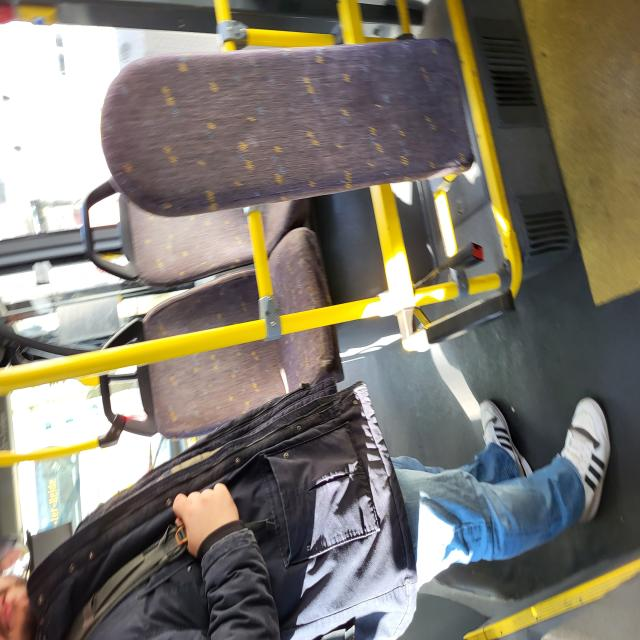asiento-libre: (134, 131, 308, 456), (265, 115, 345, 414)
